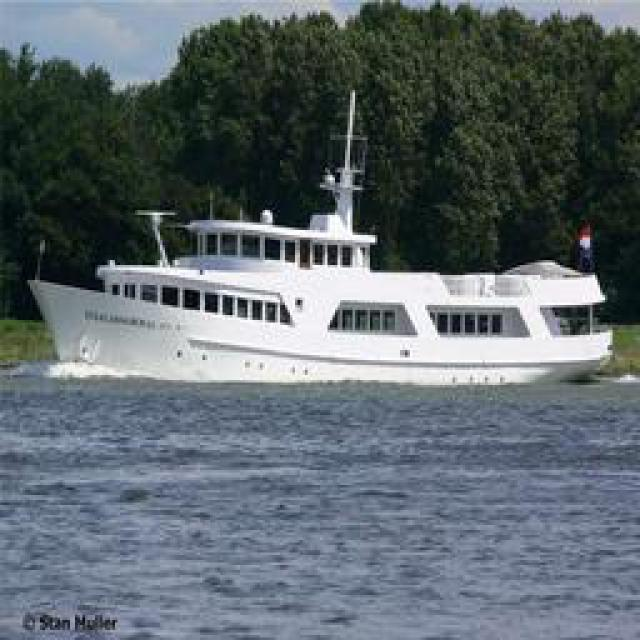Ship: (35, 160, 613, 395)
